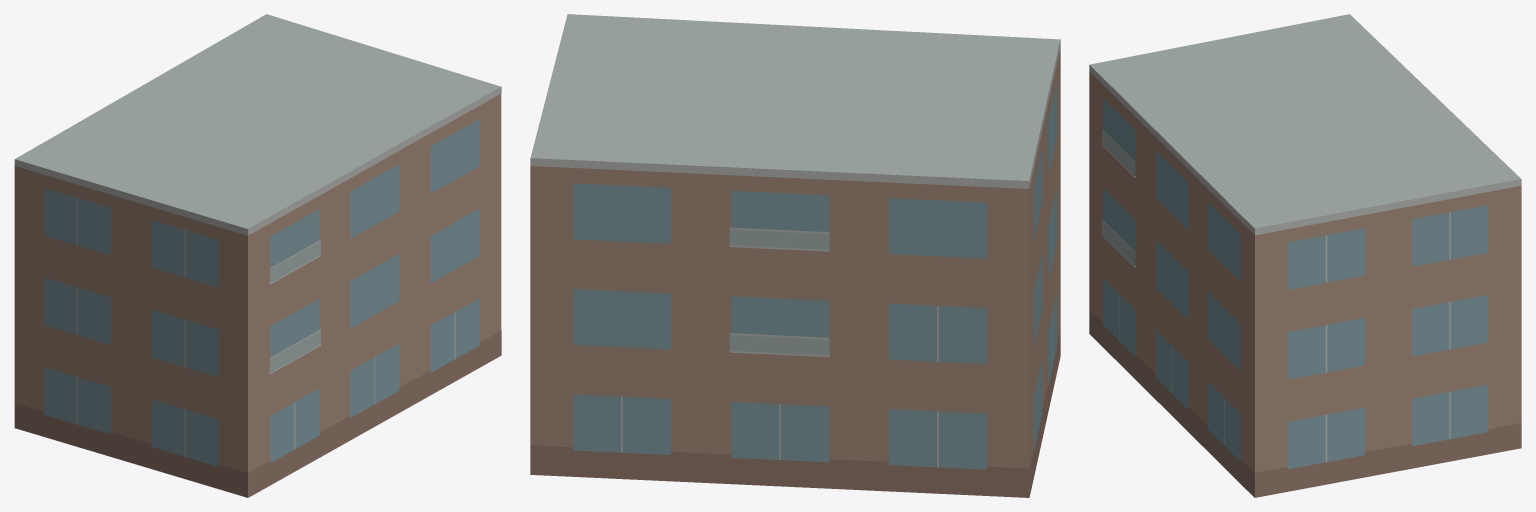
The model's file is survey-upis-32912753.glb.
3 renders of one model, left to right at view 1: azimuth 30°, elevation 25°; view 2: azimuth 150°, elevation 25°; view 3: azimuth 270°, elevation 25°, orthographic. The views are drawn at different scales.
Visible parts, largest first — view 1: survey-upis-32912753.tmp; view 2: survey-upis-32912753.tmp; view 3: survey-upis-32912753.tmp.
Part boxes in pixels (<box>): survey-upis-32912753.tmp: <box>14,14,501,497</box>; survey-upis-32912753.tmp: <box>530,14,1060,497</box>; survey-upis-32912753.tmp: <box>1089,14,1521,497</box>.
Size of the model in its own units: 16.77 by 9.8 by 14.27.
